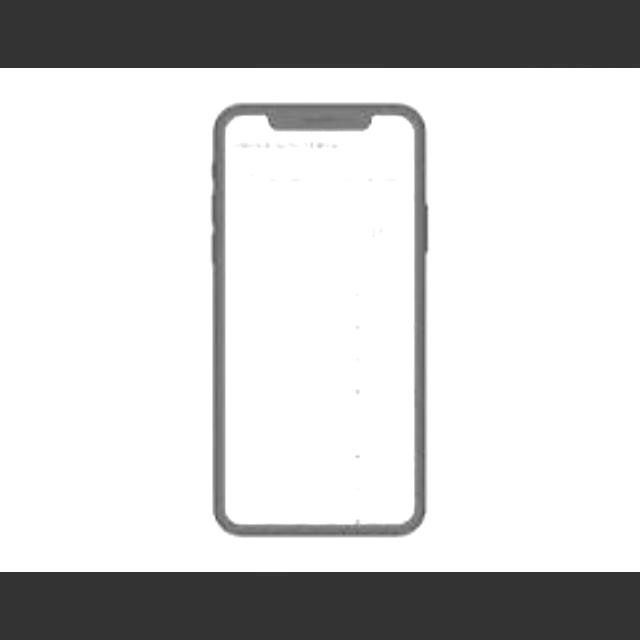fake: (214, 95, 426, 535)
